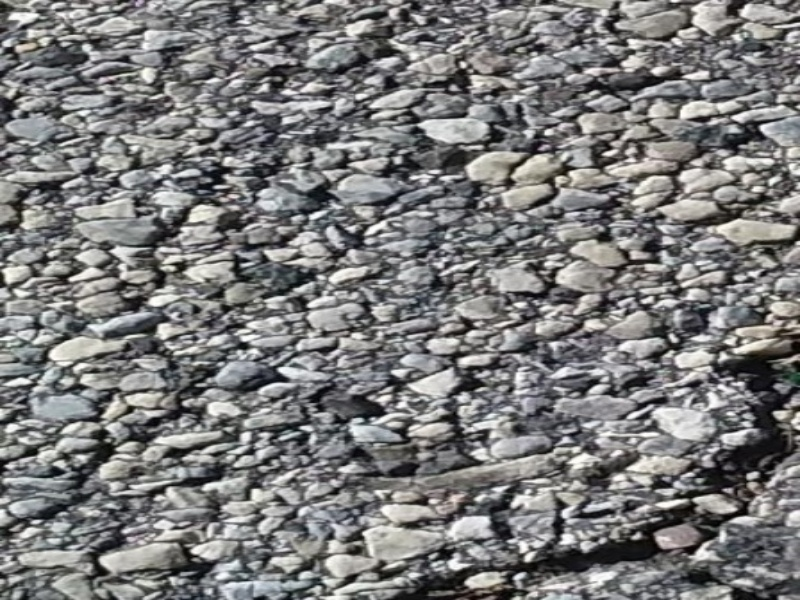crack: (414, 346, 794, 595)
